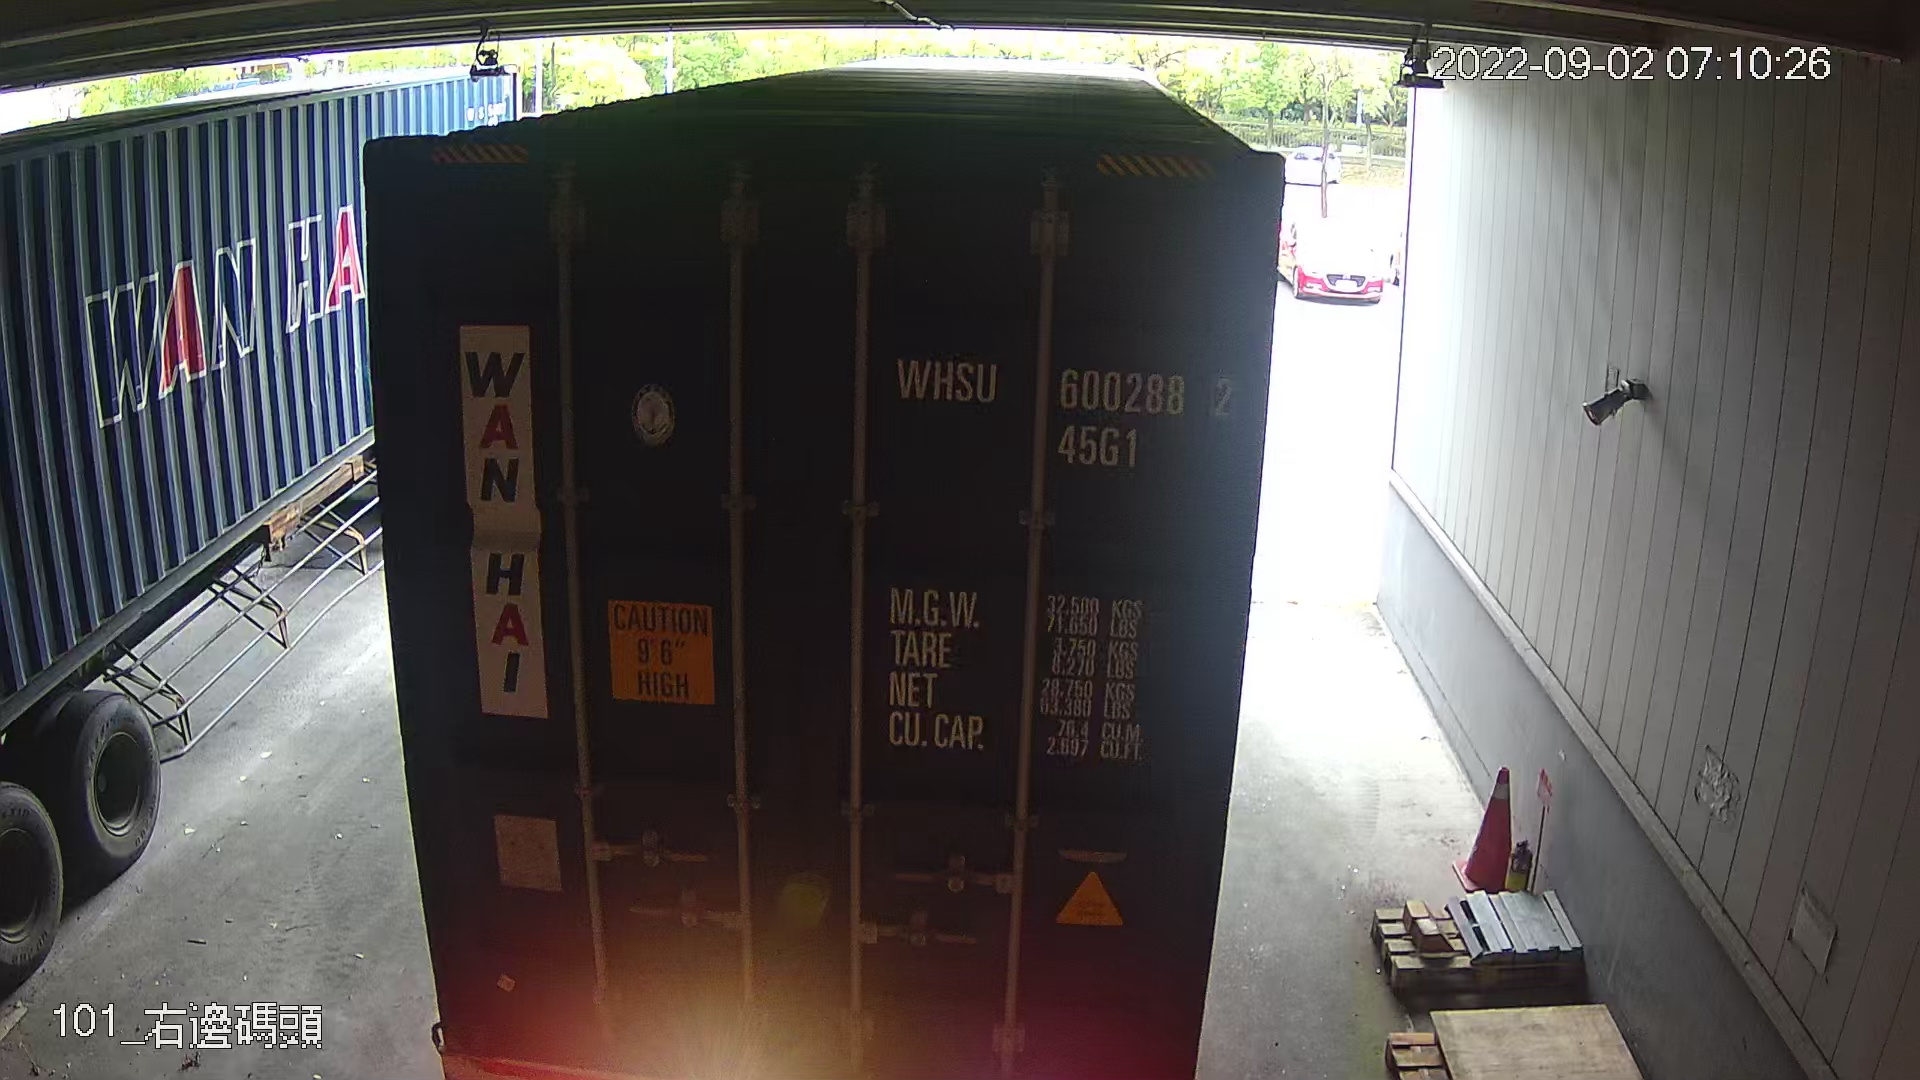container: (880, 334, 1250, 477)
